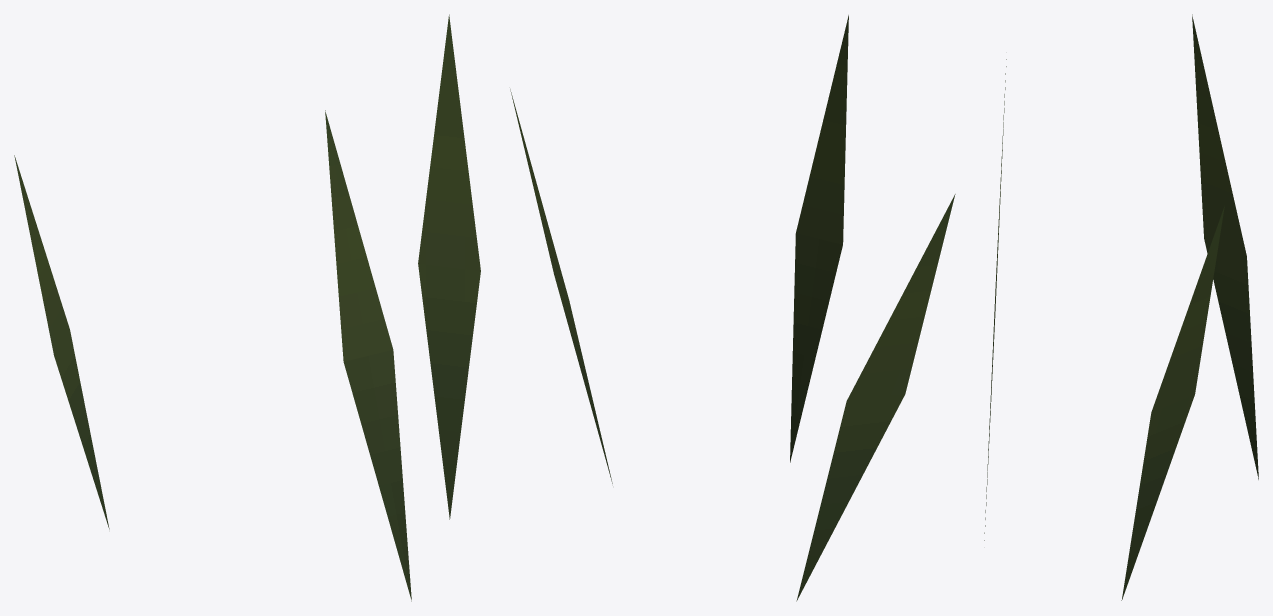
The model's file is plants_me_main_grass71.gltf.
The picture shows the model from 3 angles, left to right: view 1: azimuth 30°, elevation 25°; view 2: azimuth 150°, elevation 25°; view 3: azimuth 270°, elevation 25°; orthographic projection. The views are drawn at different scales.
Parts seen in each view (by area): view 1: plants_me_main_grass71; view 2: plants_me_main_grass71; view 3: plants_me_main_grass71.
Part boxes in pixels (x1,y1,x2,y2): plants_me_main_grass71: (14,14,480,601); plants_me_main_grass71: (510,15,955,601); plants_me_main_grass71: (984,14,1258,600).
Size of the model in its own units: 0.4252 by 0.45 by 0.24.
1 material, 1 textured.
